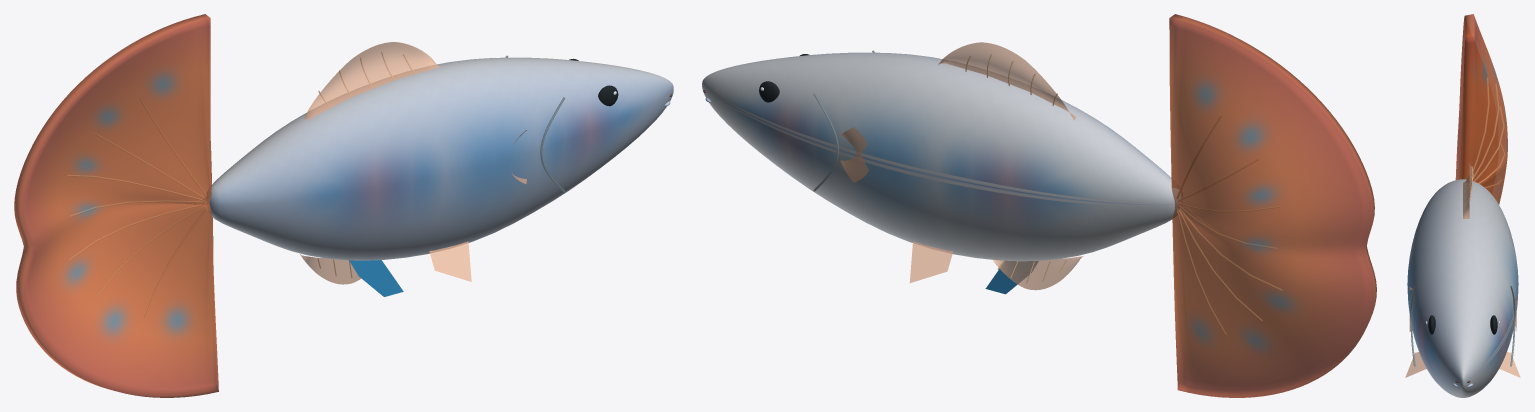
Rendered from Guppy_Hero_v2.fbx.
The picture shows the model from 3 angles, left to right: view 1: azimuth 30°, elevation 25°; view 2: azimuth 150°, elevation 25°; view 3: azimuth 270°, elevation 25°; orthographic projection. The views are drawn at different scales.
Parts seen in each view (by area): view 1: Guppy Hero Body, Guppy fan tail.001, Guppy dorsal fin.001, Guppy pelvic fin, Guppy gonopodium, Guppy anal fin.001; view 2: Guppy Hero Body, Guppy fan tail.001, Guppy dorsal fin.001, Guppy anal fin.001, Guppy pelvic fin.001, Guppy gonopodium, Guppy pectoral fin.003; view 3: Guppy Hero Body, Guppy fan tail.001, Guppy dorsal fin.001, Guppy pelvic fin, Guppy pelvic fin.001, Guppy caudal ray.019, Guppy gill seam.002, Guppy gill seam.003, Guppy caudal ray.020, Guppy caudal ray.018, Guppy Hero Eye, Guppy Hero Eye.001.
Part boxes in pixels (x1,y1,x2,y2): Guppy Hero Body: (206, 57, 673, 260); Guppy fan tail.001: (14, 14, 218, 397); Guppy dorsal fin.001: (304, 42, 439, 119); Guppy pelvic fin: (429, 241, 471, 281); Guppy gonopodium: (349, 260, 403, 296); Guppy anal fin.001: (300, 254, 360, 284); Guppy Hero Body: (702, 52, 1181, 261); Guppy fan tail.001: (1169, 14, 1376, 397); Guppy dorsal fin.001: (938, 42, 1075, 120); Guppy anal fin.001: (993, 256, 1083, 290); Guppy pelvic fin.001: (909, 241, 953, 282); Guppy gonopodium: (985, 261, 1038, 294); Guppy pectoral fin.003: (840, 127, 868, 182); Guppy Hero Body: (1407, 179, 1518, 397); Guppy fan tail.001: (1455, 14, 1507, 204); Guppy dorsal fin.001: (1463, 163, 1471, 218); Guppy pelvic fin: (1405, 352, 1426, 377); Guppy pelvic fin.001: (1499, 352, 1520, 377); Guppy caudal ray.019: (1473, 84, 1499, 179); Guppy gill seam.002: (1410, 286, 1415, 366); Guppy gill seam.003: (1510, 286, 1515, 366); Guppy caudal ray.020: (1473, 77, 1489, 171); Guppy caudal ray.018: (1474, 106, 1504, 181); Guppy Hero Eye: (1428, 315, 1435, 334); Guppy Hero Eye.001: (1490, 315, 1497, 334).
Bounding box in the file's own units: 1.16 × 0.6244 × 0.21.
9 materials, 2 textured.
